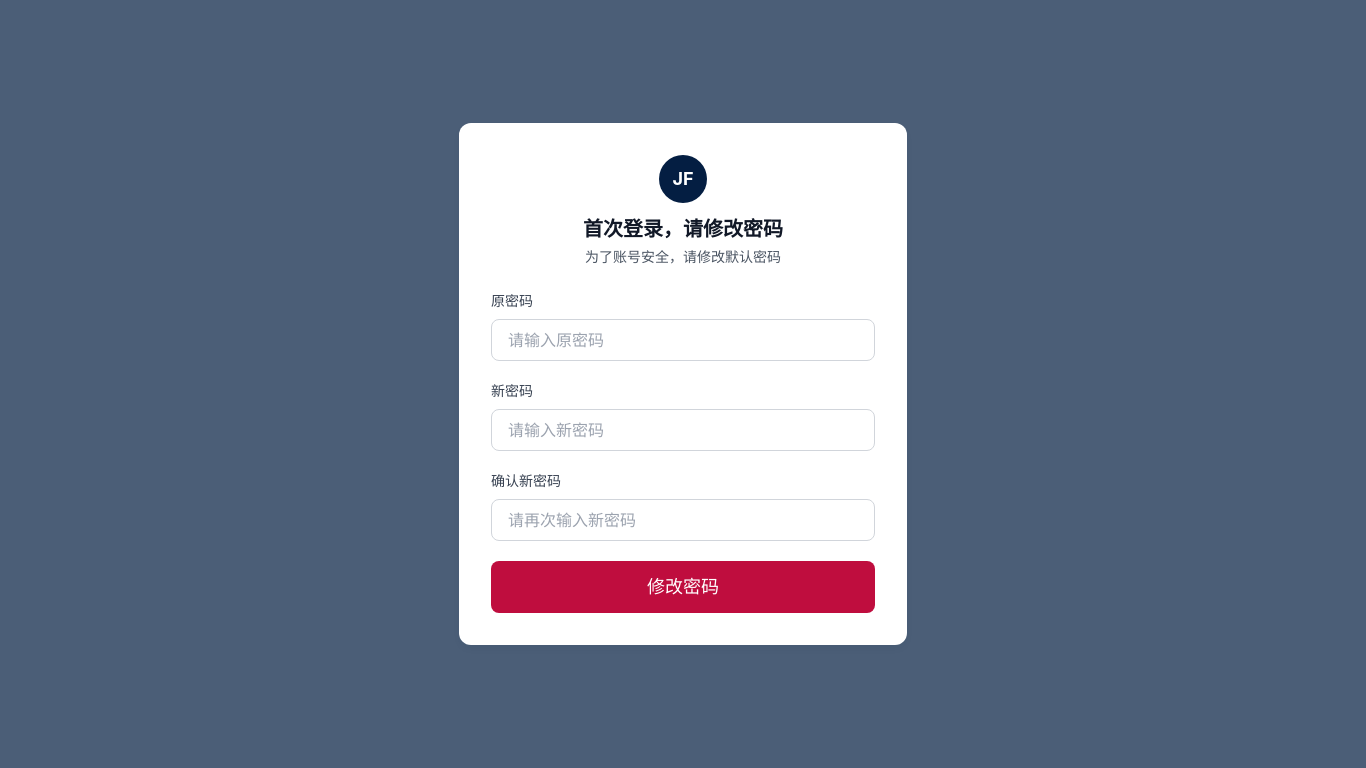
Test: LoginModal › validates matching passwords
Type "oldpass" into the password field labelled "原密码" at (683, 340), box [491,319,875,361]
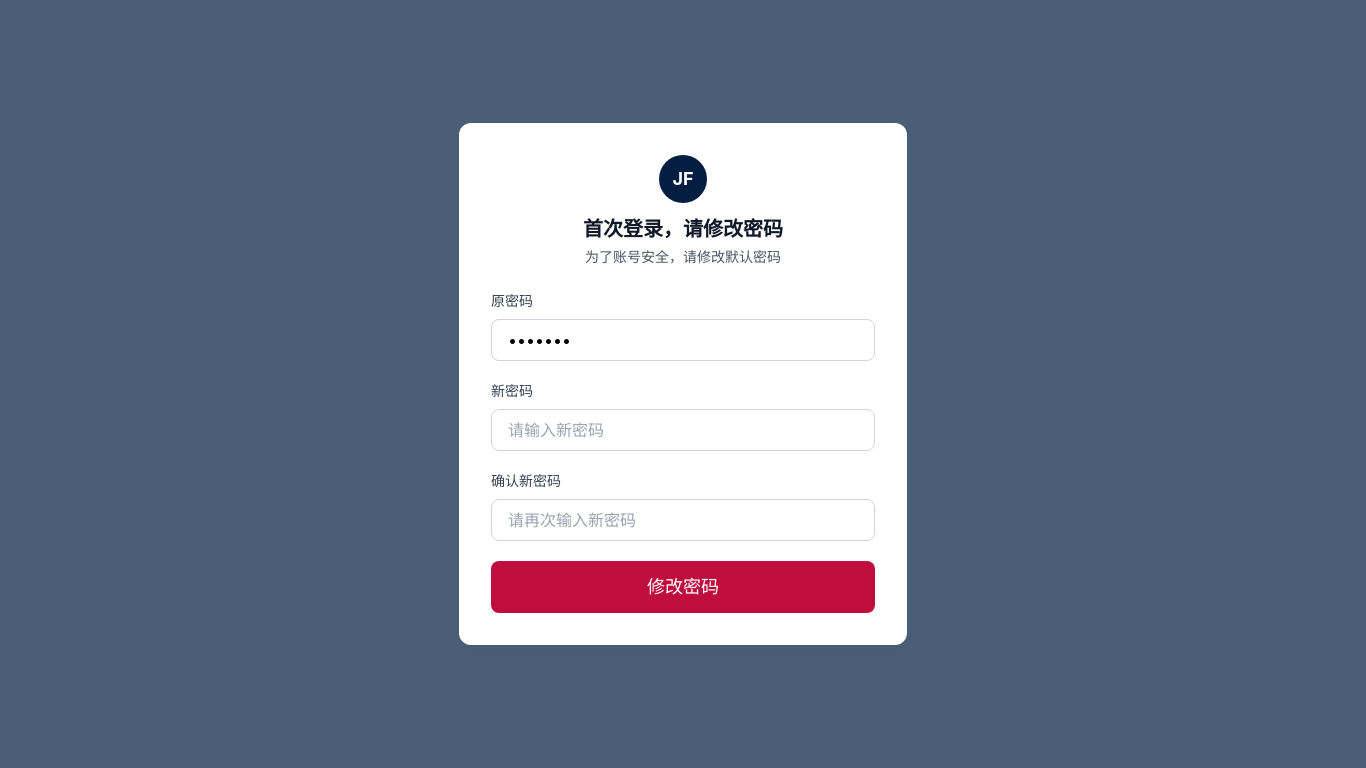
Type "newpass123" into the password field labelled "新密码" at (683, 430), box [491,409,875,451]
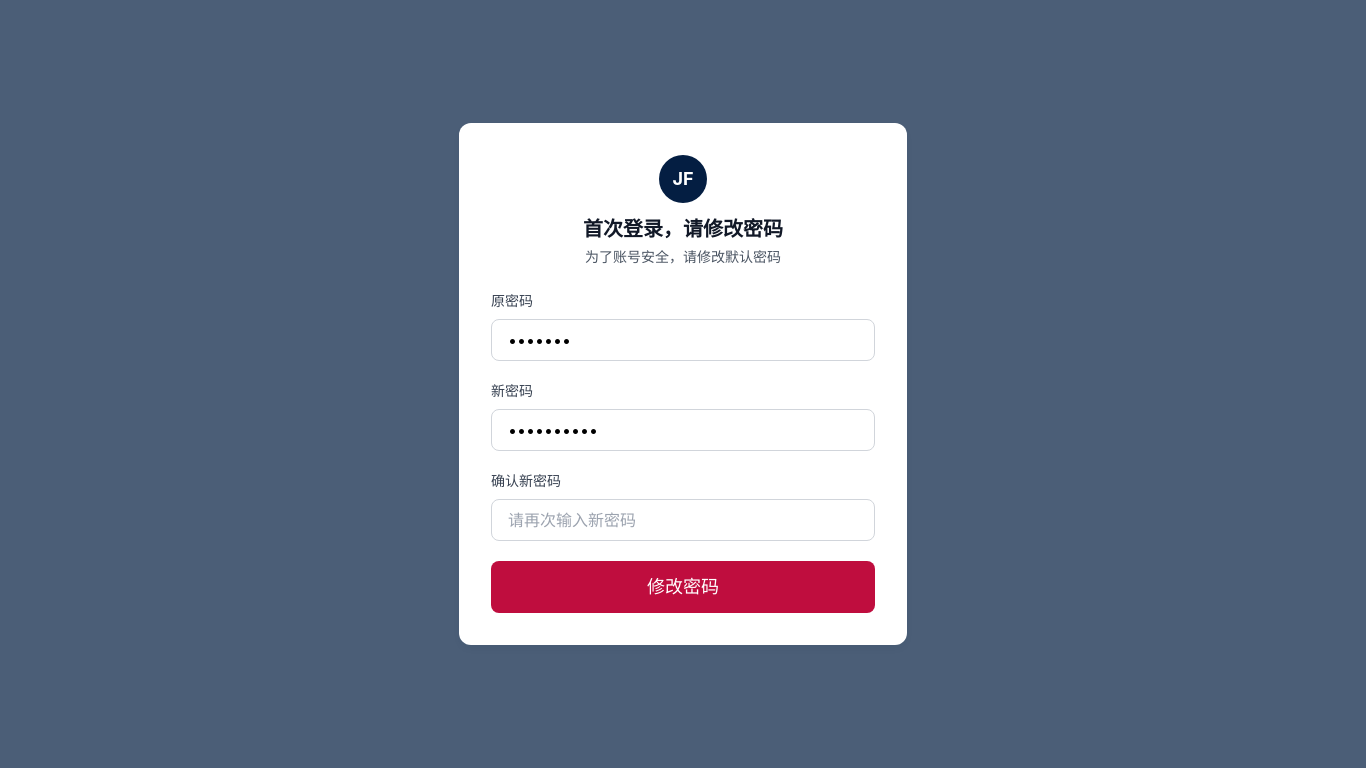
Type "different123" into the password field labelled "确认新密码" at (683, 520), box [491,499,875,541]
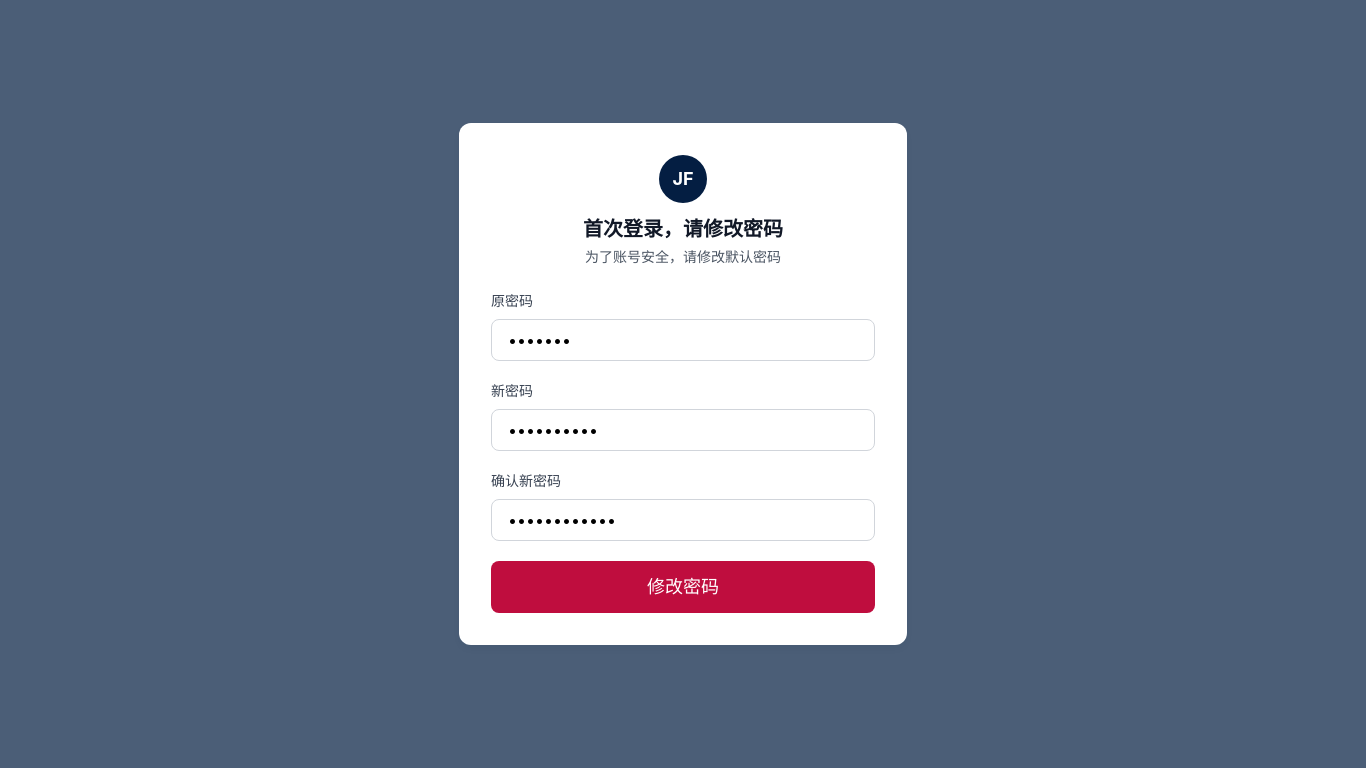
Click the button "修改密码" at (683, 587), box [491,561,875,613]
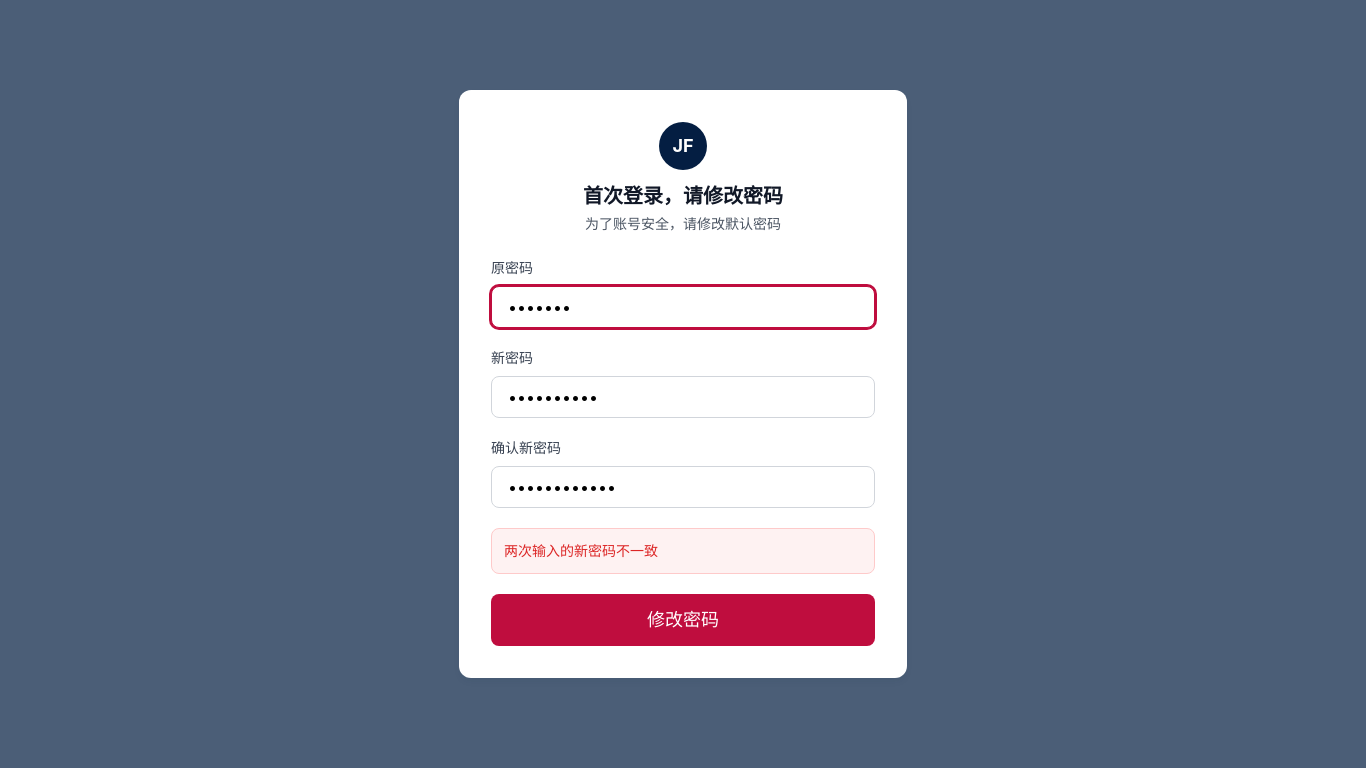
Expected: the text "两次输入的新密码不一致" is shown, [504,542,658,559]
